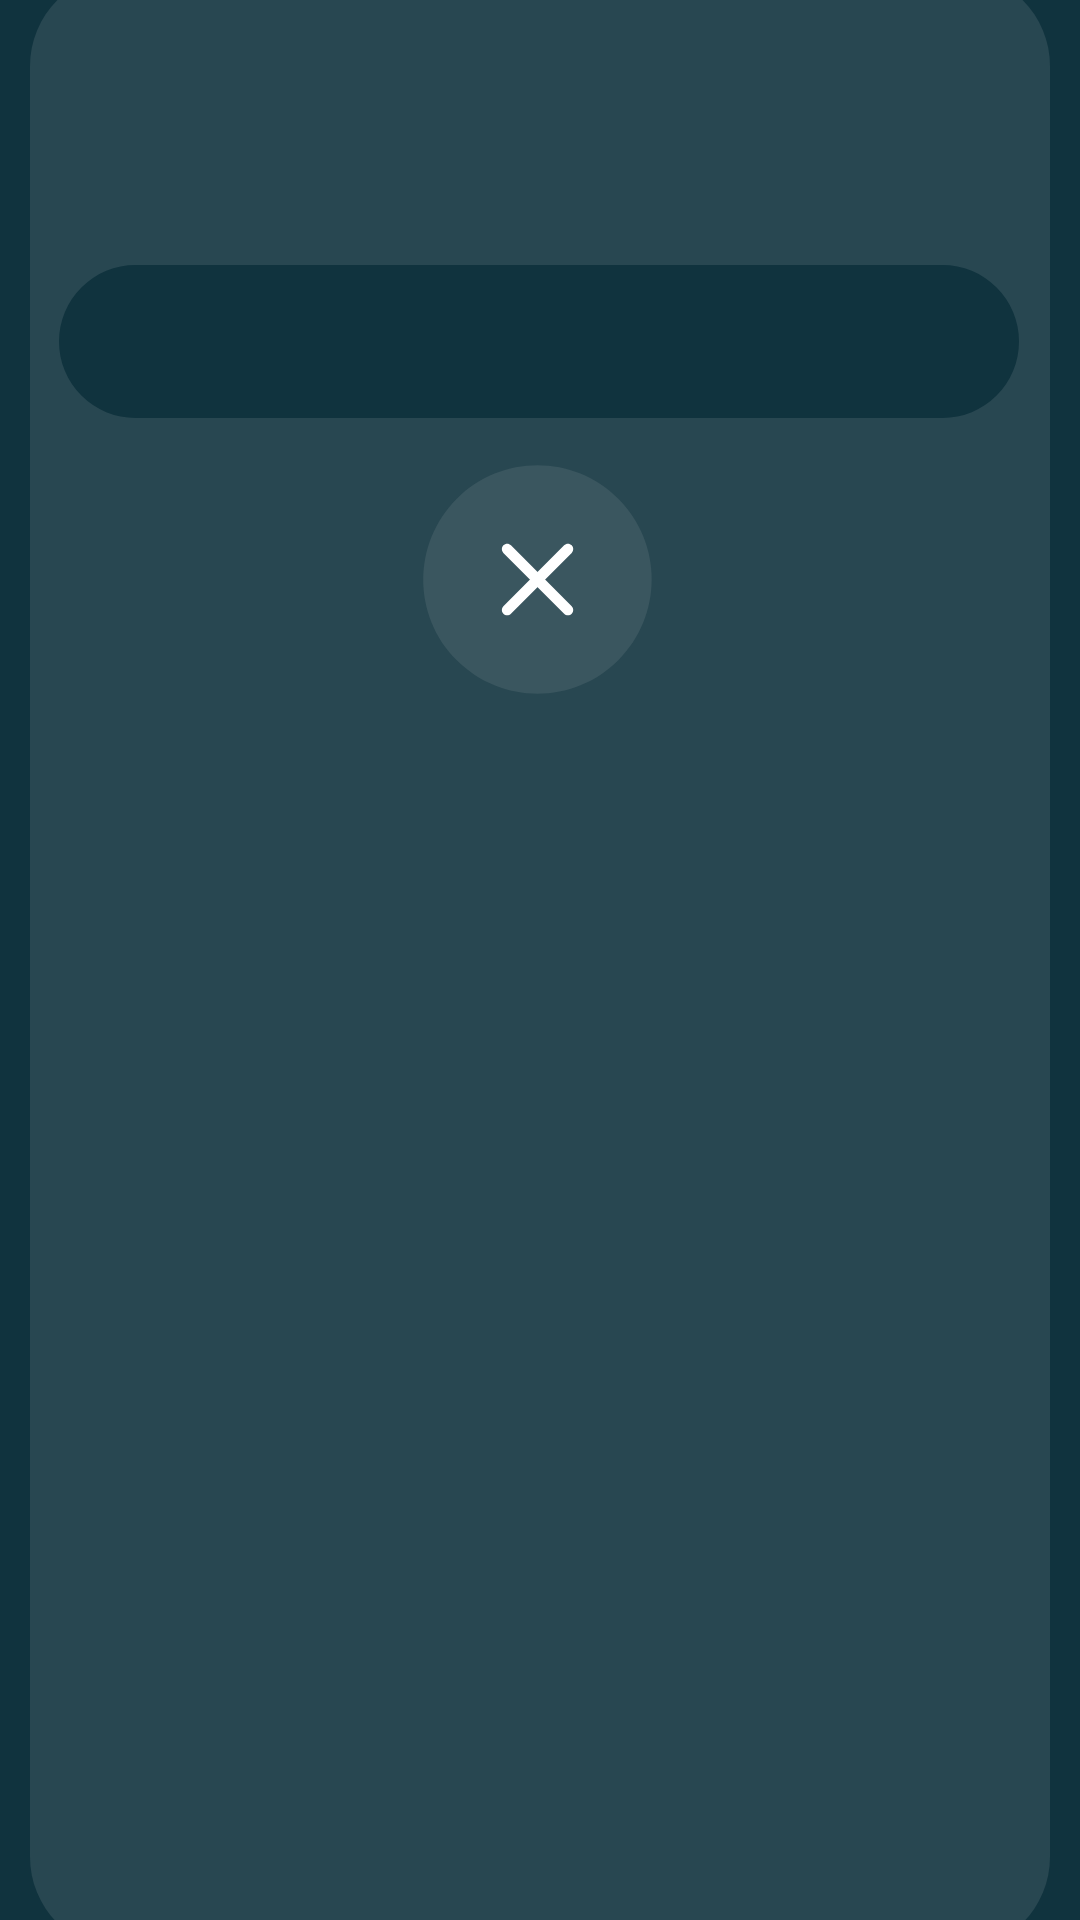

Where icons sit on this 1080w x 1920h app screen, as (x1, y1, x2, y2):
hapus: (423, 465, 652, 694)
